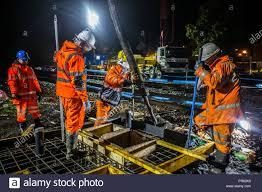safe person: (195, 43, 239, 167), (58, 28, 96, 160), (7, 50, 46, 129), (98, 45, 127, 122)
